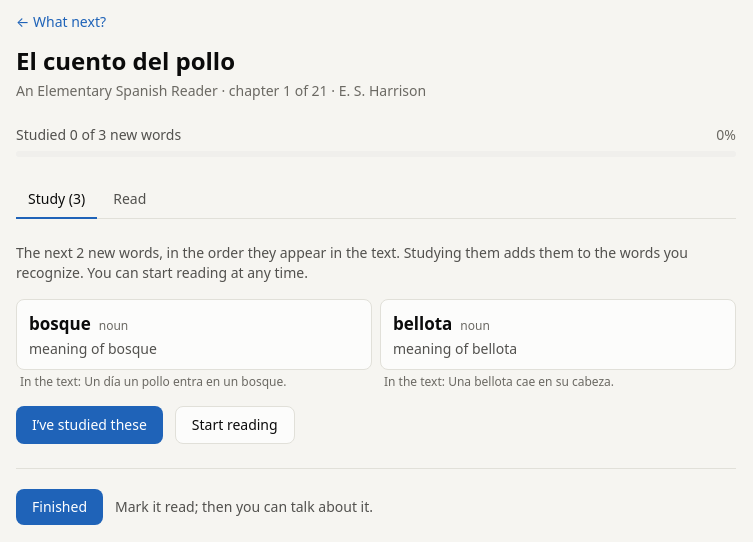
Test: Reading › studies a batch of new words, in order, and then offers the next
Check: the text "In the text: Un día un pollo entra en un bosque." is shown, box x1=20 y1=373 x2=286 y2=390
Check: the text "Studied 0 of 3 new words" is shown, box x1=16 y1=125 x2=181 y2=145
Click the button "I’ve studied these": (89, 425) x1=16 y1=406 x2=163 y2=444
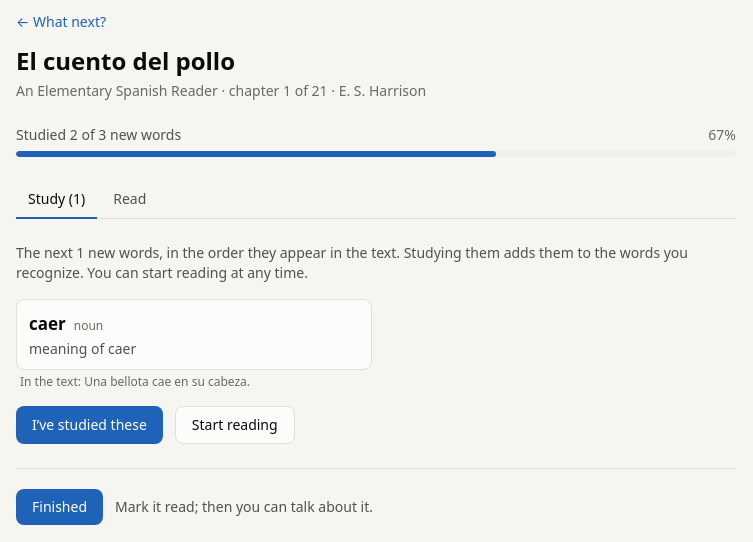
Check: the text "Studied 2 of 3 new words" is shown, box x1=16 y1=125 x2=181 y2=145
Check: the text "meaning of caer" is shown, box x1=29 y1=339 x2=136 y2=358
